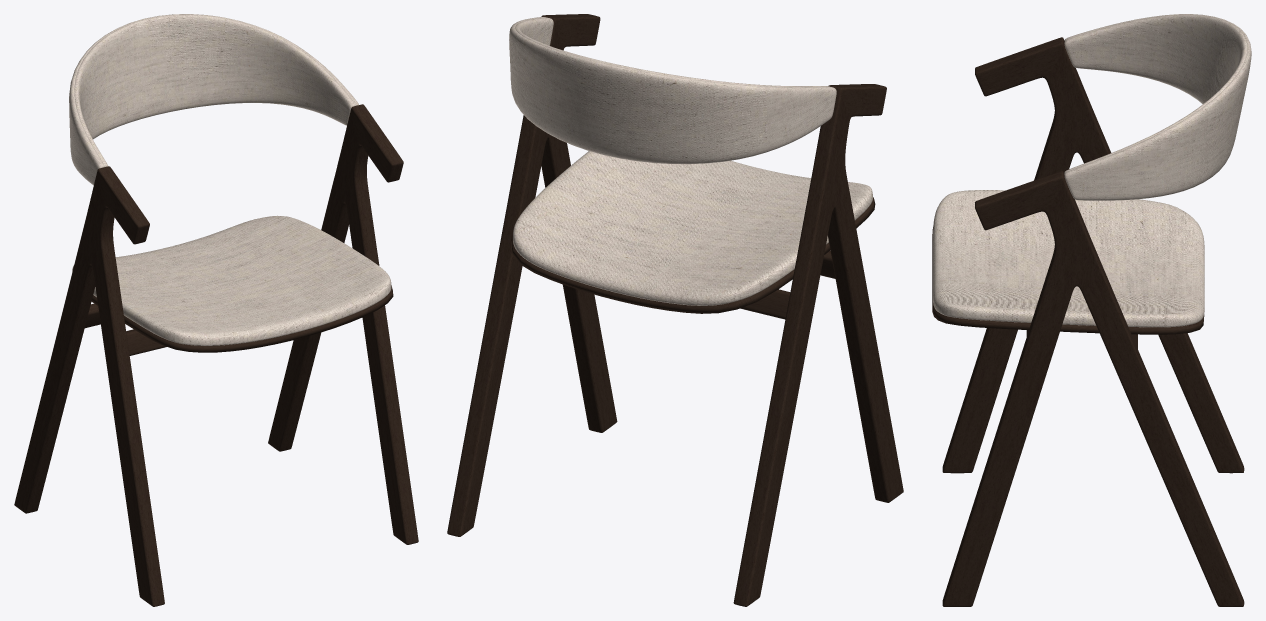
The model's file is Chair1.glb.
3 views of the same model, side by side, from view 1: azimuth 30°, elevation 25°; view 2: azimuth 150°, elevation 25°; view 3: azimuth 270°, elevation 25° (orthographic). The views are drawn at different scales.
Visible parts, largest first — view 1: Horn chair; view 2: Horn chair; view 3: Horn chair.
Boxes of the visible parts, x1,y1,x2,y2 form: Horn chair: [14, 14, 418, 606]; Horn chair: [447, 14, 903, 606]; Horn chair: [932, 14, 1251, 606].
Bounding box in the file's own units: 0.503 × 0.8169 × 0.4826.
2 materials, 2 textured.
